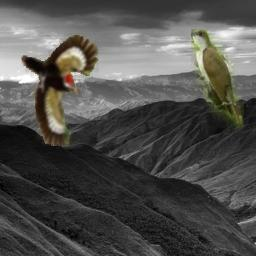Cuckoo: (191, 29, 244, 139)
Woodpecker: (21, 33, 99, 146)
